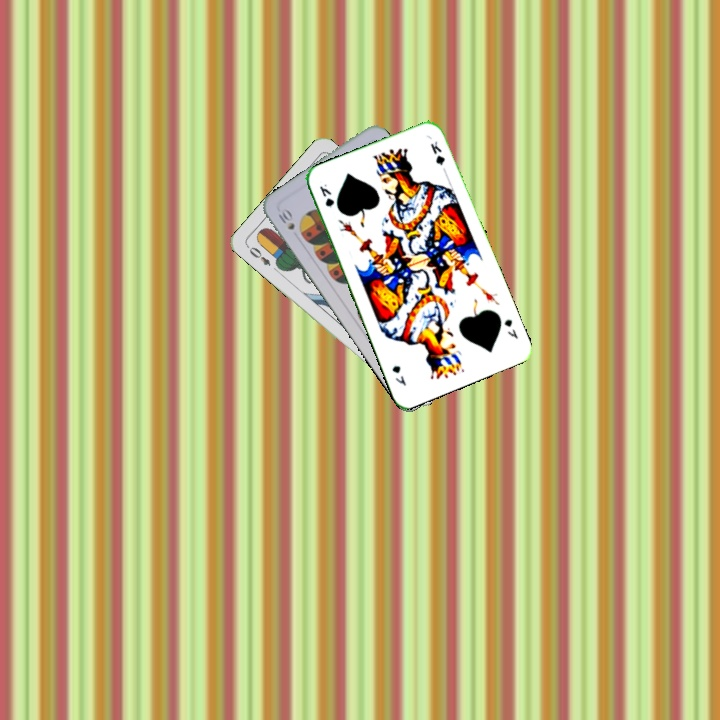EO: (243, 241, 273, 269)
GK: (315, 180, 337, 211), (500, 315, 521, 341)
S10: (273, 206, 297, 233)
